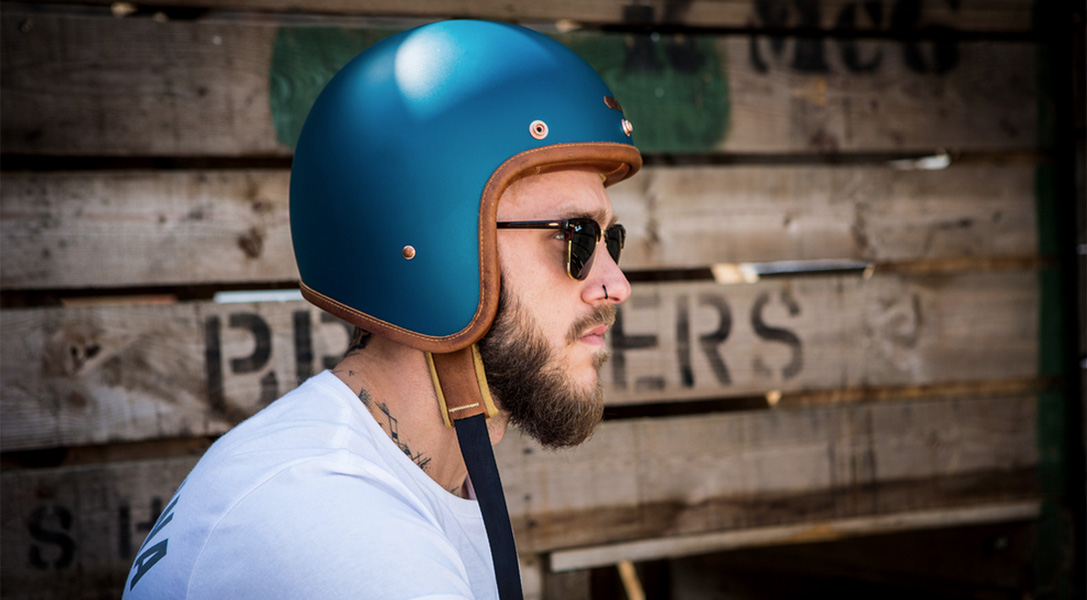with_helmet: (287, 15, 648, 345)
